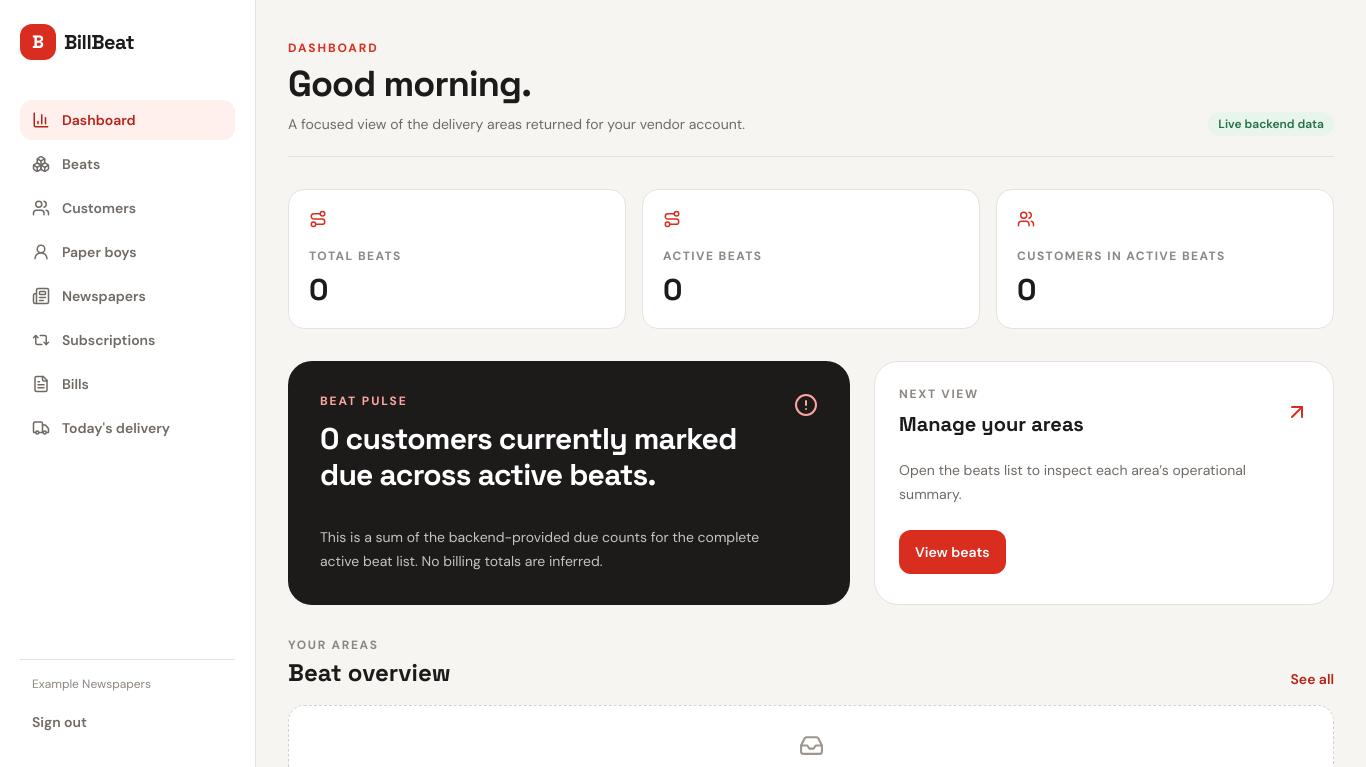
authentication › clears the session and returns to login on logout
Check: the heading "Good morning." is shown, box [288,61,531,107]
Click the button "Sign out": (128, 722) [20,700,235,744]
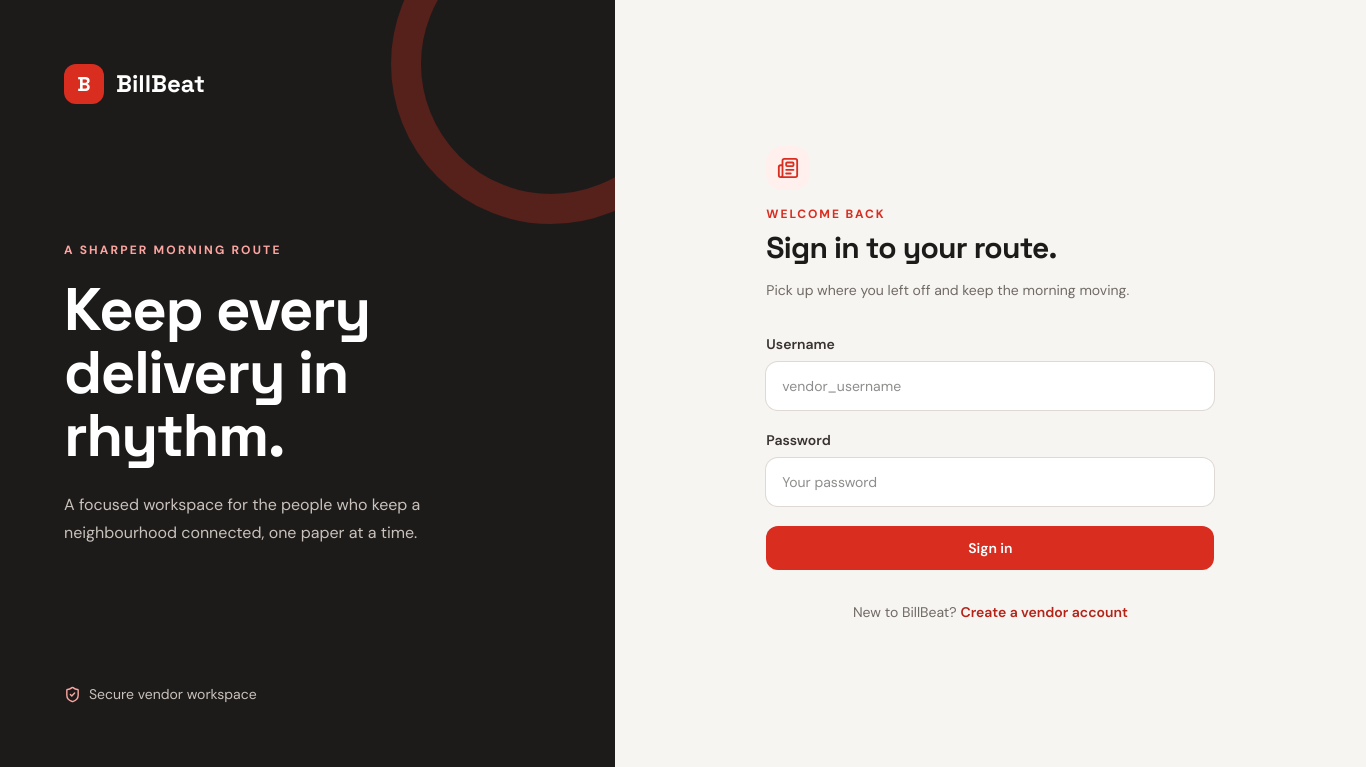
Check: the heading "Sign in to your route." is shown, box [766,228,1057,267]
